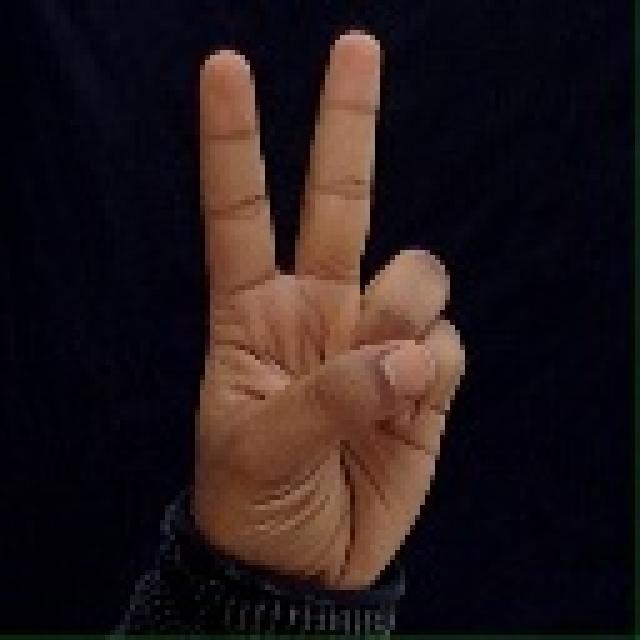Numeric-2: (190, 28, 470, 610)
